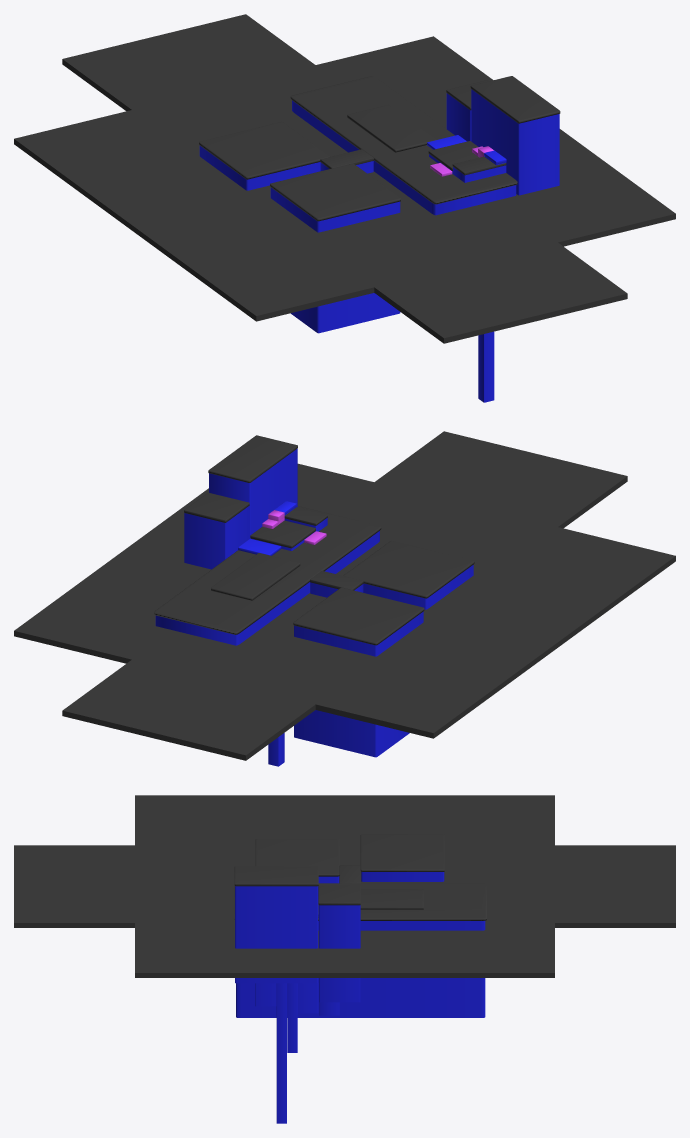
3 views of the same model, one above another, from view 1: azimuth 30°, elevation 25°; view 2: azimuth 150°, elevation 25°; view 3: azimuth 270°, elevation 25° (orthographic). The views are drawn at different scales.
Visible parts, largest first — view 1: Floor_Line, Floor_Line4, Floor_Line2, SM_Cube_Platform_4, SM_Cube_Platform_2, SM_Cube_Platform_15, SM_Cube_Platform_01, SM_Cube_Platform_5, SM_Cube_Platform_14, SM_Cube_Platform_12, Floor_Line3, SM_Cube_Platform_9 (+2 smaller); view 2: Floor_Line, Floor_Line4, Floor_Line2, SM_Cube_Platform_4, SM_Cube_Platform_01, SM_Cube_Platform_2, SM_Cube_Platform_15, SM_Cube_Platform_14, SM_Cube_Platform_5, SM_Cube_Platform_8, SM_Cube_Platform_3, SM_Cube_Platform_9 (+1 smaller); view 3: Floor_Line, Floor_Line4, Floor_Line2, SM_Cube_Platform_4, SM_Cube_Platform_15, SM_Cube_Platform_01, SM_Cube_Platform_14, SM_Cube_Platform_2, SM_Cube_Platform_12, SM_Cube_Platform_5, Floor_Line3, SM_Cube_Platform_10 (+3 smaller).
Part boxes in pixels (left/top/right/bottom): Floor_Line: left=14, top=36, right=675, bottom=321; Floor_Line4: left=323, top=217, right=627, bottom=343; Floor_Line2: left=62, top=14, right=338, bottom=135; SM_Cube_Platform_4: left=290, top=76, right=517, bottom=215; SM_Cube_Platform_2: left=270, top=163, right=400, bottom=333; SM_Cube_Platform_15: left=470, top=76, right=560, bottom=195; SM_Cube_Platform_01: left=199, top=121, right=329, bottom=190; SM_Cube_Platform_5: left=347, top=104, right=436, bottom=152; SM_Cube_Platform_14: left=446, top=80, right=489, bottom=141; SM_Cube_Platform_12: left=478, top=146, right=494, bottom=402; Floor_Line3: left=193, top=125, right=347, bottom=242; SM_Cube_Platform_9: left=452, top=156, right=506, bottom=182; Floor_Line: left=14, top=463, right=675, bottom=738; Floor_Line4: left=333, top=431, right=627, bottom=554; Floor_Line2: left=62, top=631, right=365, bottom=760; SM_Cube_Platform_4: left=154, top=506, right=381, bottom=645; SM_Cube_Platform_01: left=293, top=587, right=424, bottom=757; SM_Cube_Platform_2: left=343, top=540, right=474, bottom=609; SM_Cube_Platform_15: left=208, top=435, right=297, bottom=538; SM_Cube_Platform_14: left=184, top=492, right=249, bottom=569; SM_Cube_Platform_5: left=211, top=553, right=300, bottom=600; SM_Cube_Platform_8: left=250, top=520, right=315, bottom=550; SM_Cube_Platform_3: left=310, top=571, right=363, bottom=597; SM_Cube_Platform_9: left=284, top=507, right=327, bottom=531; Floor_Line: left=135, top=795, right=554, bottom=977; Floor_Line4: left=14, top=845, right=223, bottom=927; Floor_Line2: left=466, top=845, right=675, bottom=927; SM_Cube_Platform_4: left=234, top=883, right=486, bottom=1017; SM_Cube_Platform_15: left=234, top=866, right=318, bottom=983; SM_Cube_Platform_01: left=360, top=834, right=444, bottom=881; SM_Cube_Platform_14: left=318, top=885, right=360, bottom=1002; SM_Cube_Platform_2: left=255, top=839, right=339, bottom=883; SM_Cube_Platform_12: left=276, top=983, right=286, bottom=1123; SM_Cube_Platform_5: left=360, top=889, right=423, bottom=909; Floor_Line3: left=240, top=845, right=449, bottom=883; SM_Cube_Platform_10: left=287, top=983, right=297, bottom=1052.
Size of what is drawn, in the model's own units: 4000 by 6300 by 2704.
